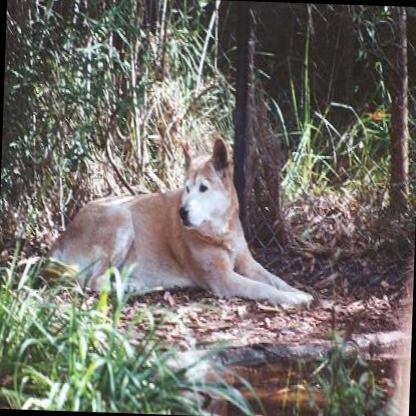dingo: (46, 126, 318, 300)
